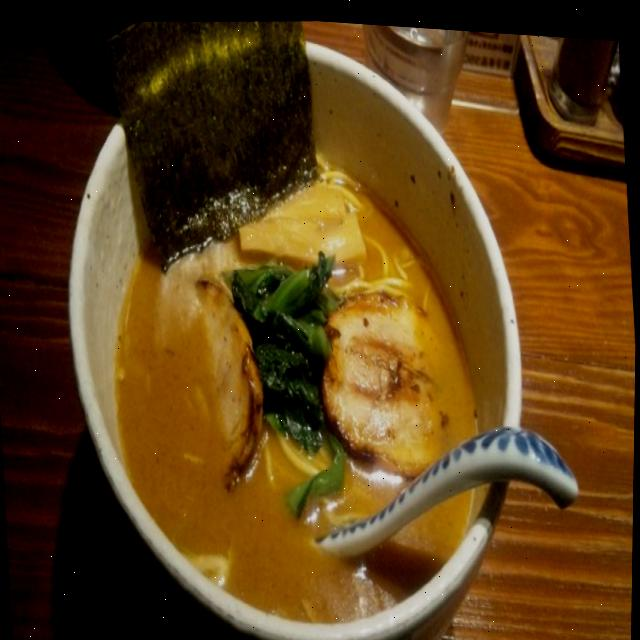面条主食: (47, 3, 560, 640)
